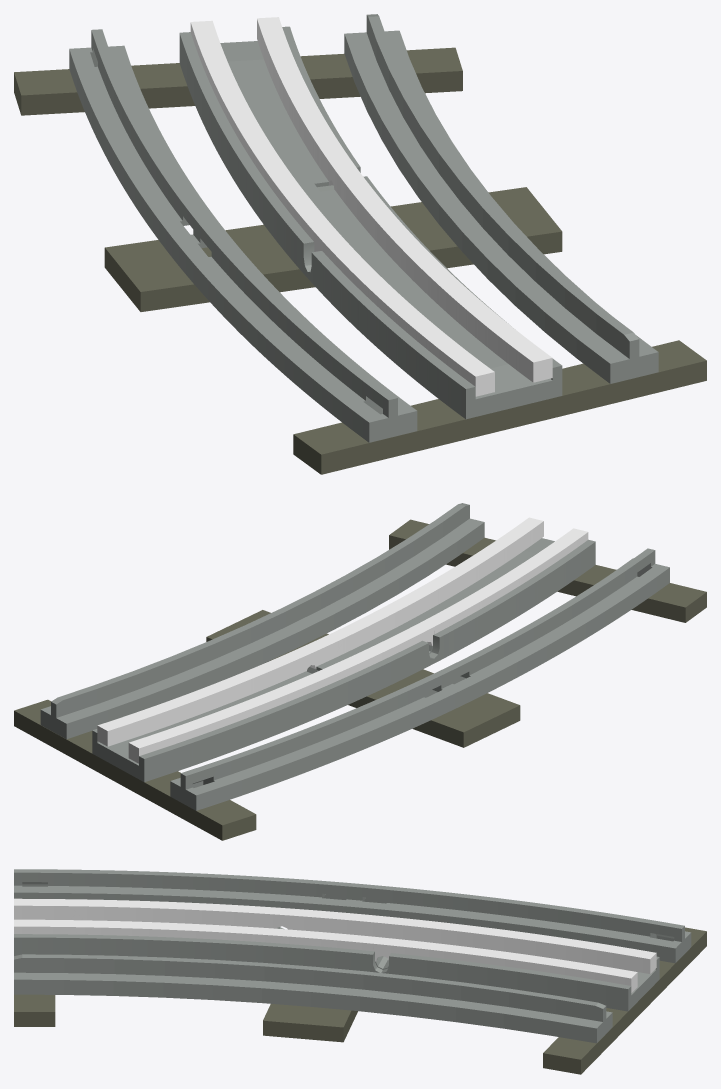
File: Track Curved_LOD2.gltf
3 renders of one model, top to bottom at view 1: azimuth 30°, elevation 25°; view 2: azimuth 150°, elevation 25°; view 3: azimuth 270°, elevation 25°, orthographic. The views are drawn at different scales.
Parts seen in each view (by area): view 1: 00001_3241a.dat, 3229b.dat, 3230b.dat, 3460.dat, 3034.dat, 3460.dat.001; view 2: 00001_3241a.dat, 3229b.dat, 3230b.dat, 3460.dat.001, 3034.dat, 3460.dat; view 3: 00001_3241a.dat, 3230b.dat, 3229b.dat, 3460.dat.001, 3034.dat, 3460.dat.
Part boxes in pixels (x1,y1,x2,y2): 00001_3241a.dat: (179,17,562,419); 3229b.dat: (69,29,417,442); 3230b.dat: (344,14,658,383); 3460.dat: (293,340,706,474); 3034.dat: (104,187,562,311); 3460.dat.001: (14,47,462,115); 00001_3241a.dat: (92,517,595,782); 3229b.dat: (170,548,669,810); 3230b.dat: (40,503,484,739); 3460.dat.001: (14,699,256,840); 3034.dat: (206,610,520,747); 3460.dat: (389,519,706,622); 00001_3241a.dat: (14,898,659,1011); 3230b.dat: (14,954,612,1043); 3229b.dat: (14,869,691,963); 3460.dat.001: (543,927,706,1074); 3034.dat: (263,1004,357,1042); 3460.dat: (14,994,55,1026).
Size of the model in its own units: 85.92 by 9.61 by 135.
Materials: 1 (1 with a texture image).
